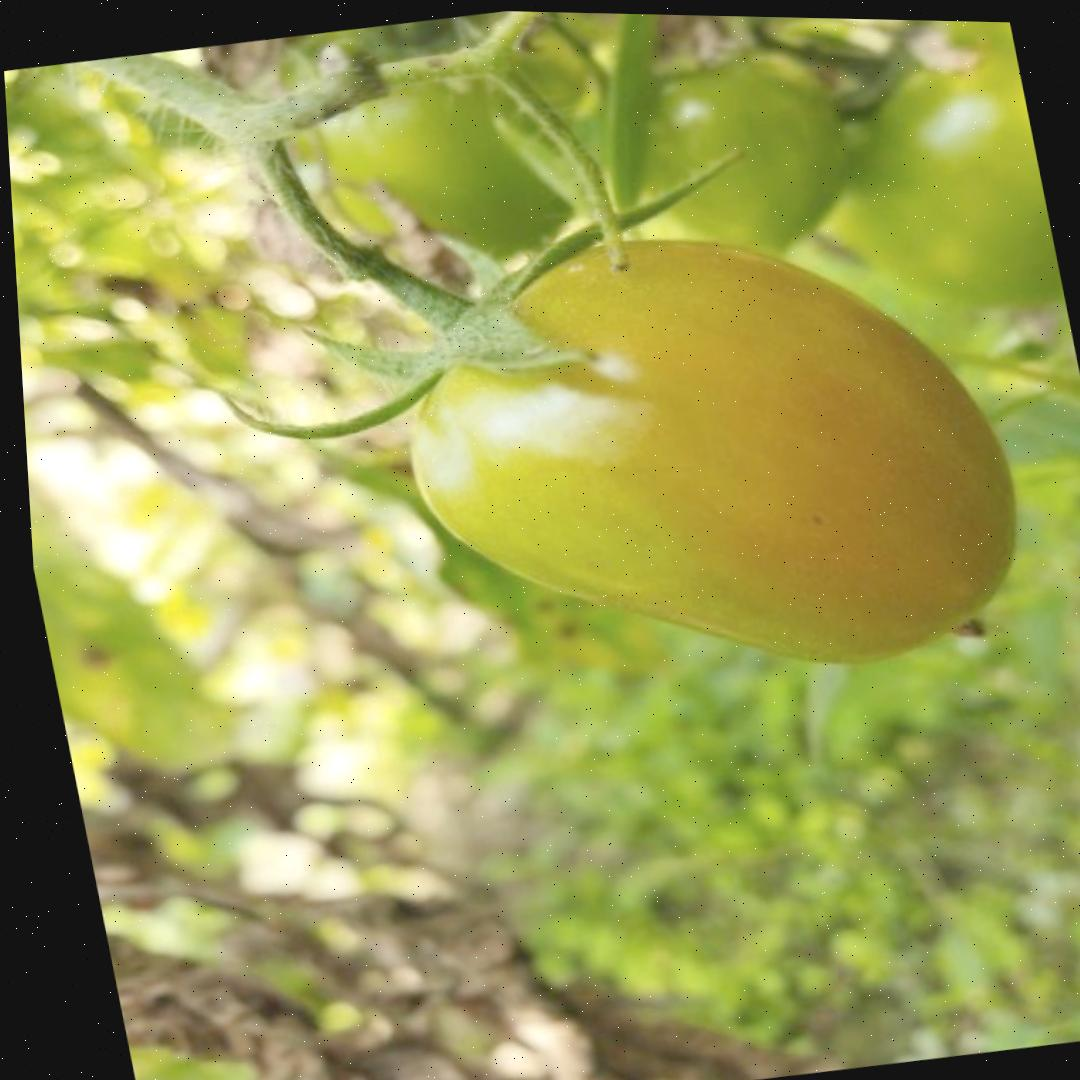setengah_matang: (359, 187, 1055, 730)
